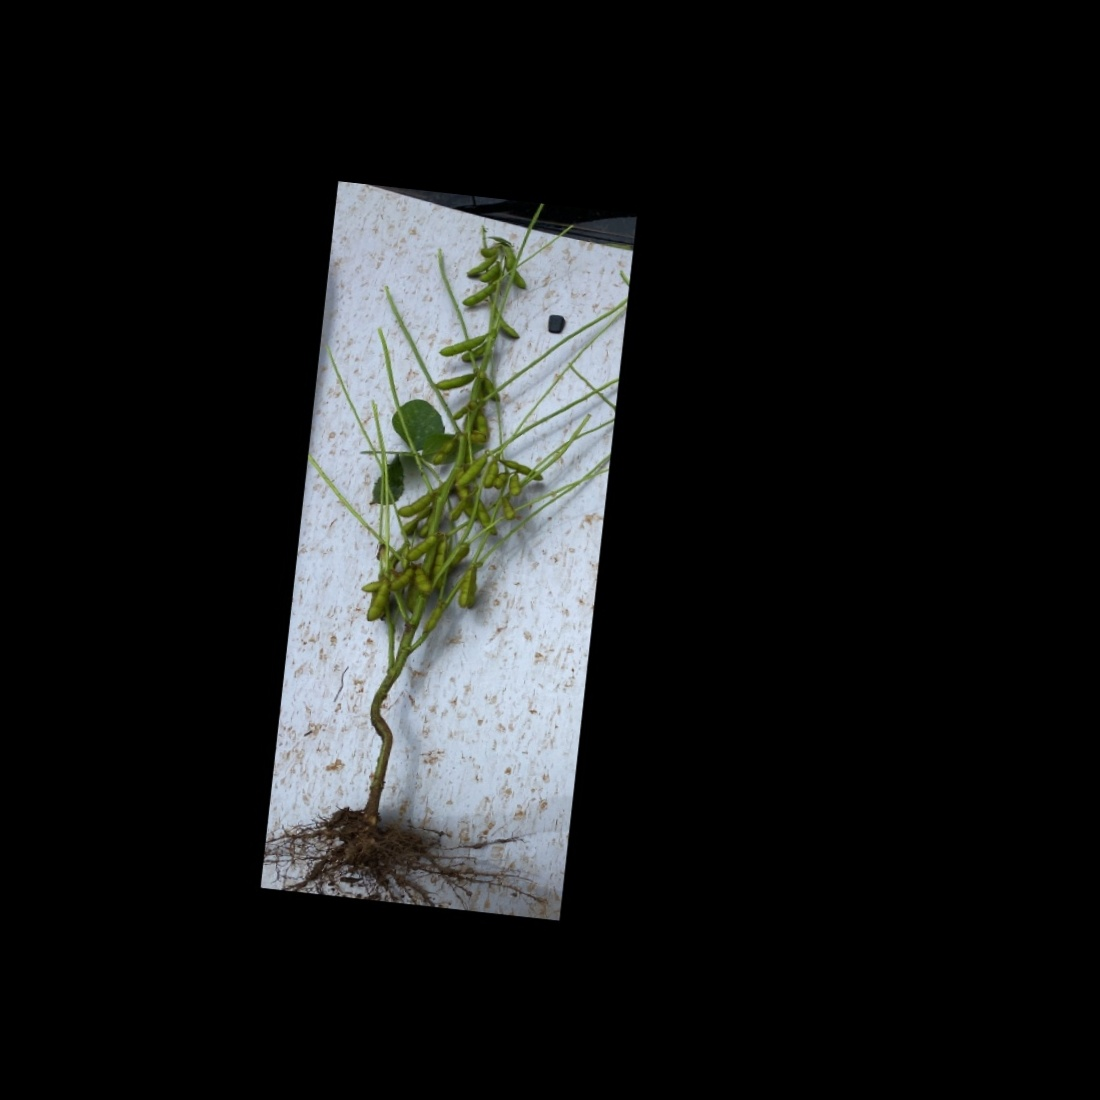pod: (495, 456, 544, 482), (365, 577, 391, 625), (456, 452, 488, 490), (404, 532, 439, 564), (434, 366, 475, 393), (490, 309, 523, 340), (459, 280, 495, 309), (472, 501, 501, 537), (455, 565, 472, 610), (388, 565, 414, 593), (467, 566, 482, 611), (412, 568, 434, 593), (423, 603, 441, 634), (482, 459, 499, 490), (505, 472, 524, 498), (478, 264, 500, 285)
soy: (275, 211, 585, 881)
